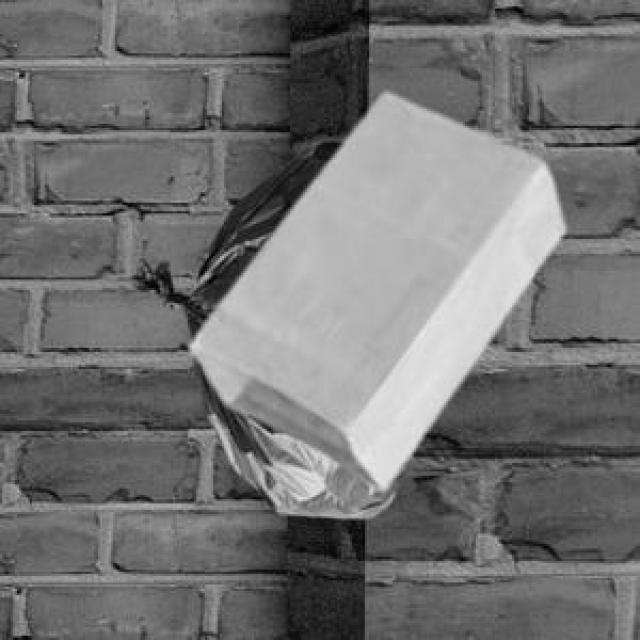miscellaneous trash: (126, 132, 406, 514)
paper: (188, 90, 559, 486)
